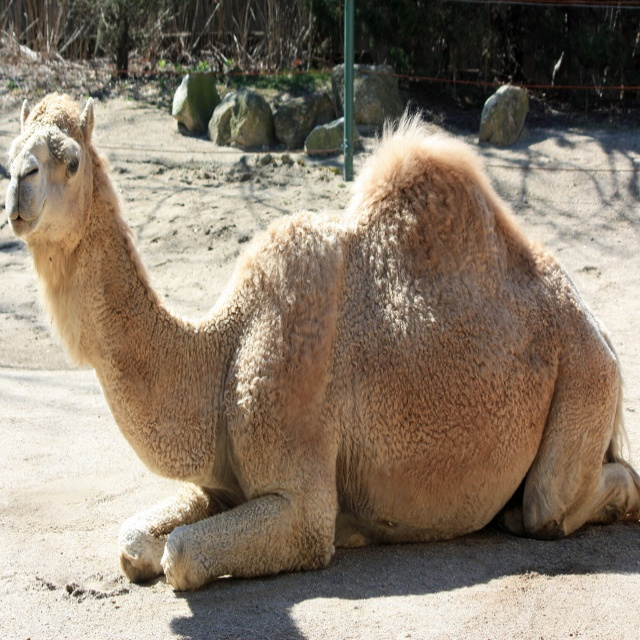Camel: (3, 89, 640, 596)
